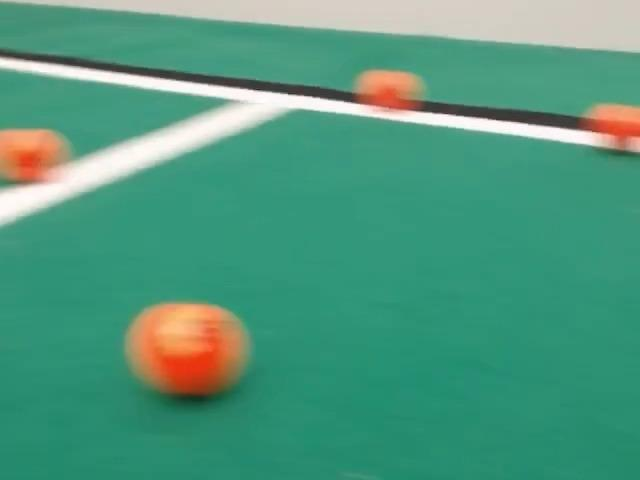Ball: (125, 303, 248, 396), (0, 129, 69, 182), (355, 70, 424, 110), (583, 104, 639, 150)
